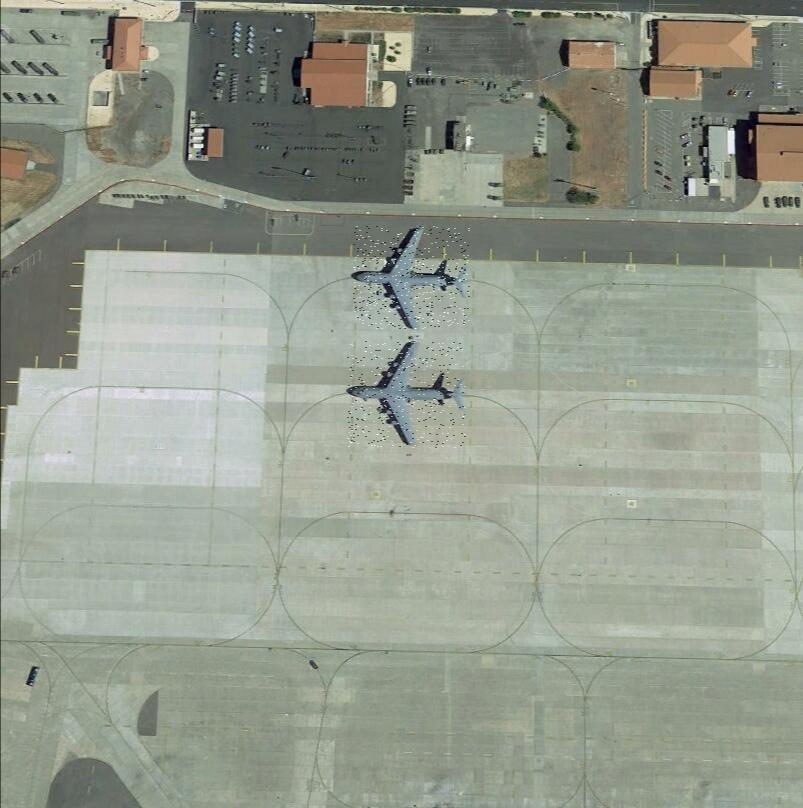A4: (347, 341, 465, 448), (353, 226, 469, 329)
